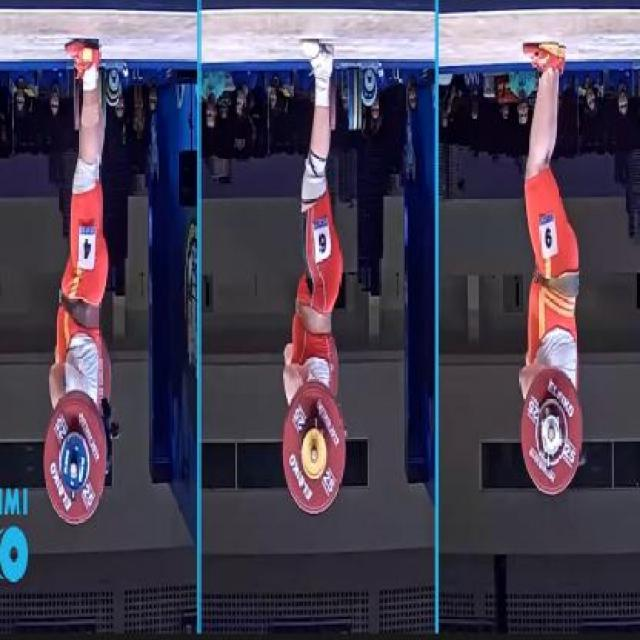Barbell: (308, 443, 320, 468), (68, 458, 77, 484), (546, 424, 554, 446)
